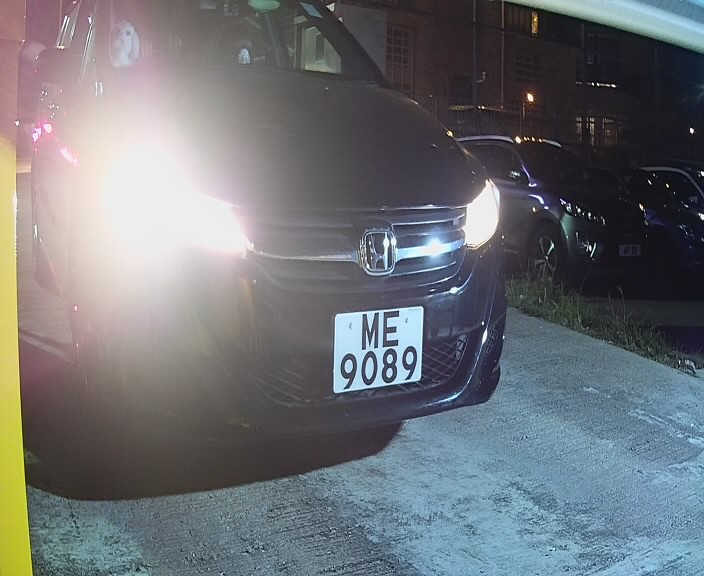Car: (27, 5, 527, 439)
License Plate: (321, 299, 435, 397)
